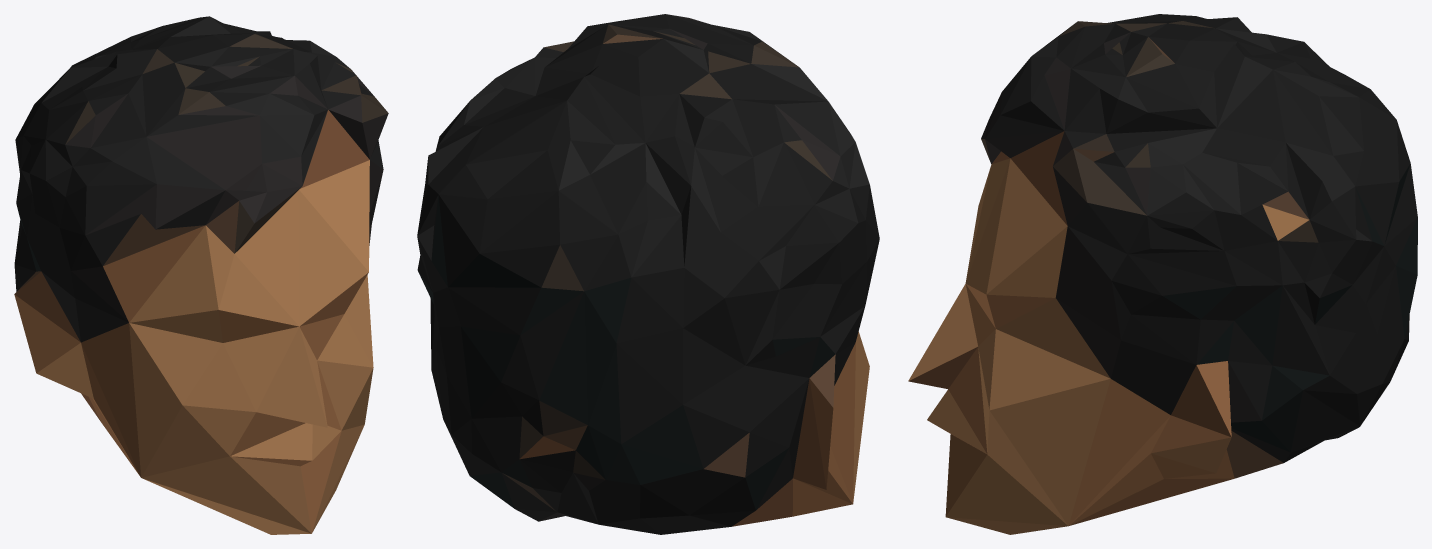
File: ndcook-head.glb
3 views of the same model, side by side, from view 1: azimuth 30°, elevation 25°; view 2: azimuth 150°, elevation 25°; view 3: azimuth 270°, elevation 25° (orthographic). The views are drawn at different scales.
Parts seen in each view (by area): view 1: ndcook-head; view 2: ndcook-head; view 3: ndcook-head.
Part boxes in pixels (x1=…): ndcook-head: x1=14, y1=16, x2=388, y2=534; ndcook-head: x1=417, y1=14, x2=879, y2=534; ndcook-head: x1=908, y1=14, x2=1417, y2=534.
Size of the model in its own units: 0.7941 by 0.9829 by 0.9286.
